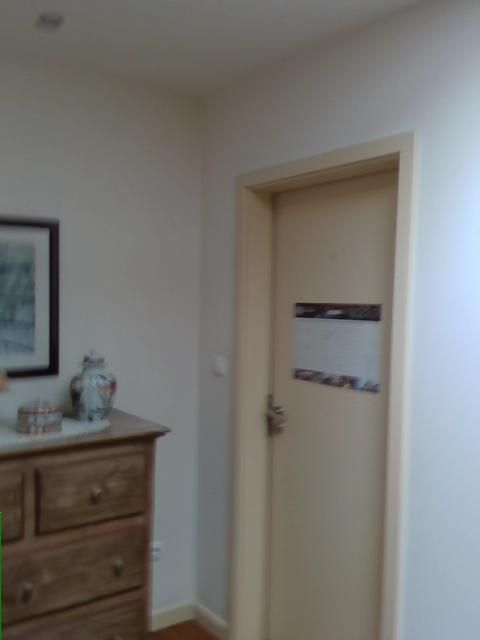door: (264, 168, 398, 635)
